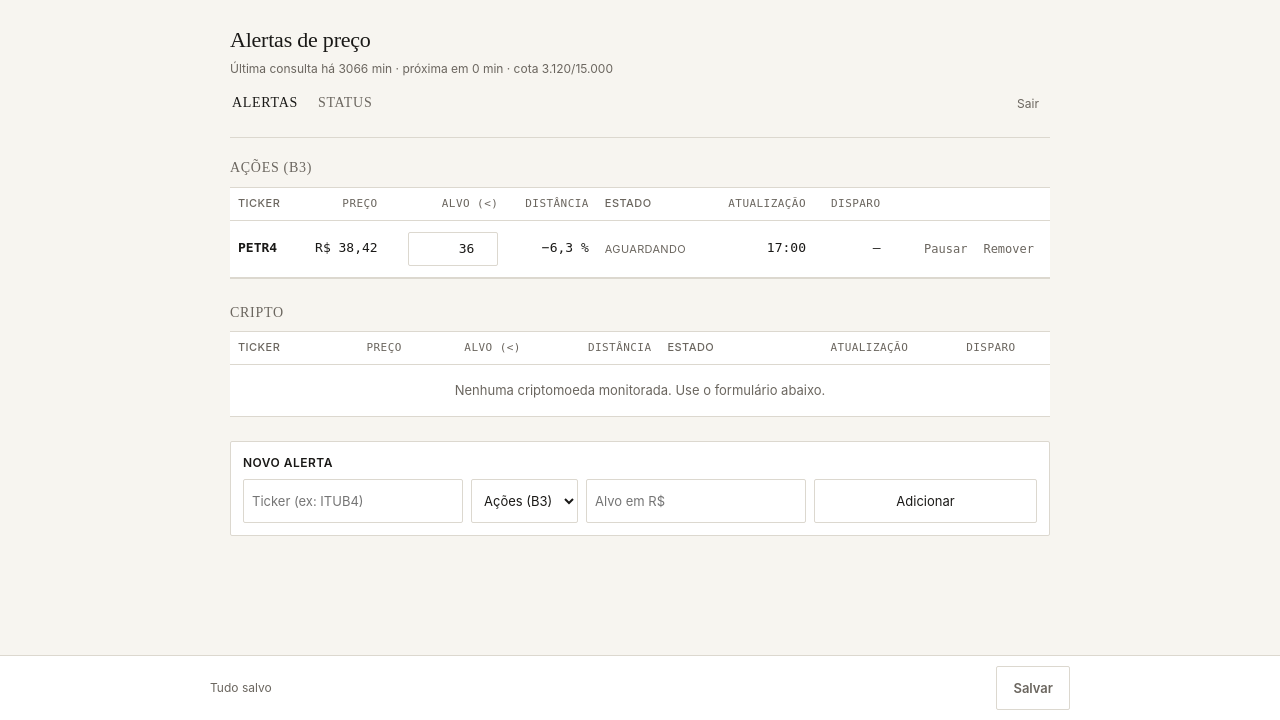
Test: AlertsPage — mutações da lista (UI-01) › salva só de remoções: NENHUM PUT sai (o 422 do lote vazio fica impossível) e o save termina satisfeito com a lista vazia
Click the button with aria-label "Remover PETR4": [1009, 248] box [975,226,1042,270]
Wait 5000 ms
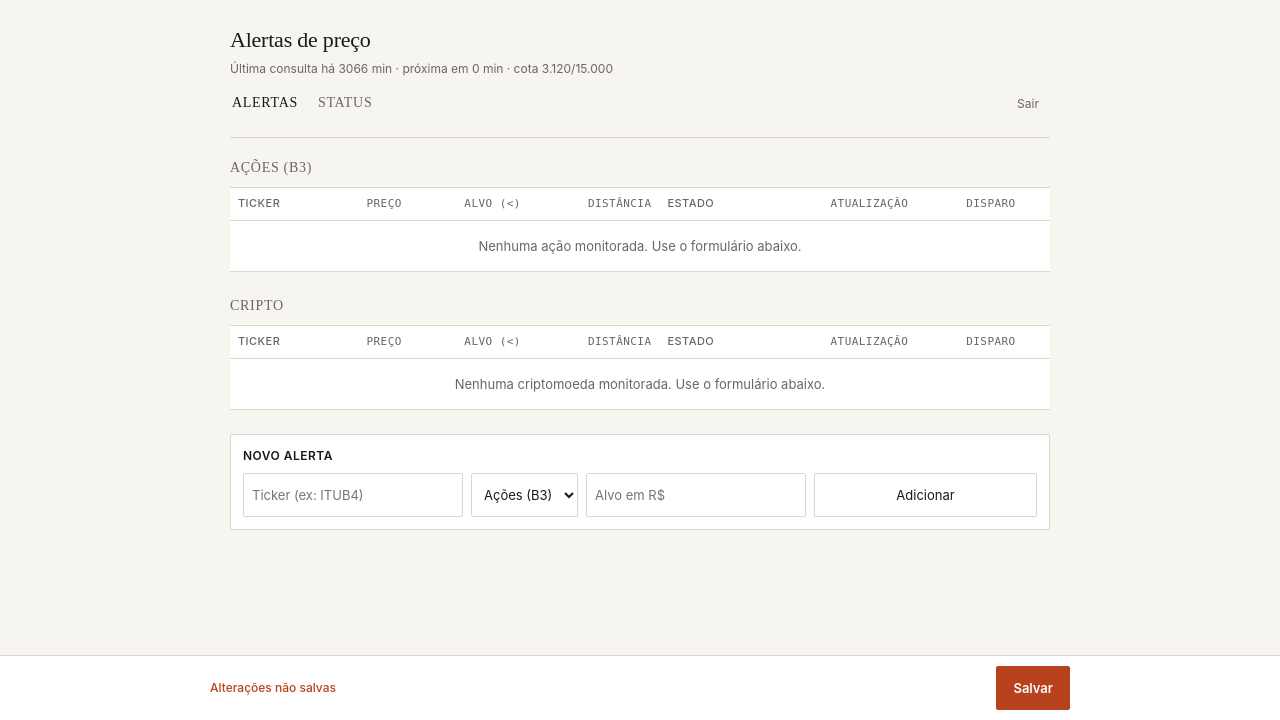
Click the button "Salvar": [1033, 688] box [996,666,1070,710]
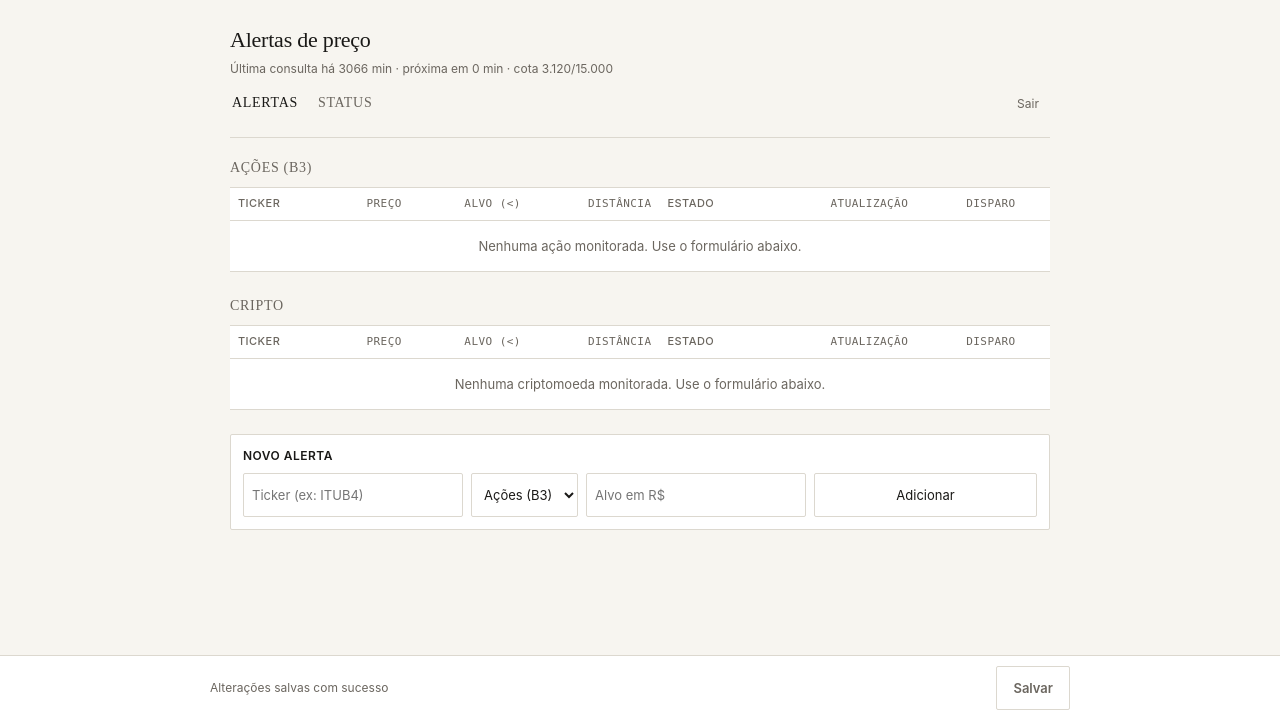
Check: the text "Nenhuma ação monitorada. Use o formulário abaixo." is shown, box [230,220,1050,271]
Check: the text "Alterações salvas com sucesso" is shown, box [210,679,388,697]
Check: the button "Salvar" is disabled, box [996,666,1070,710]
